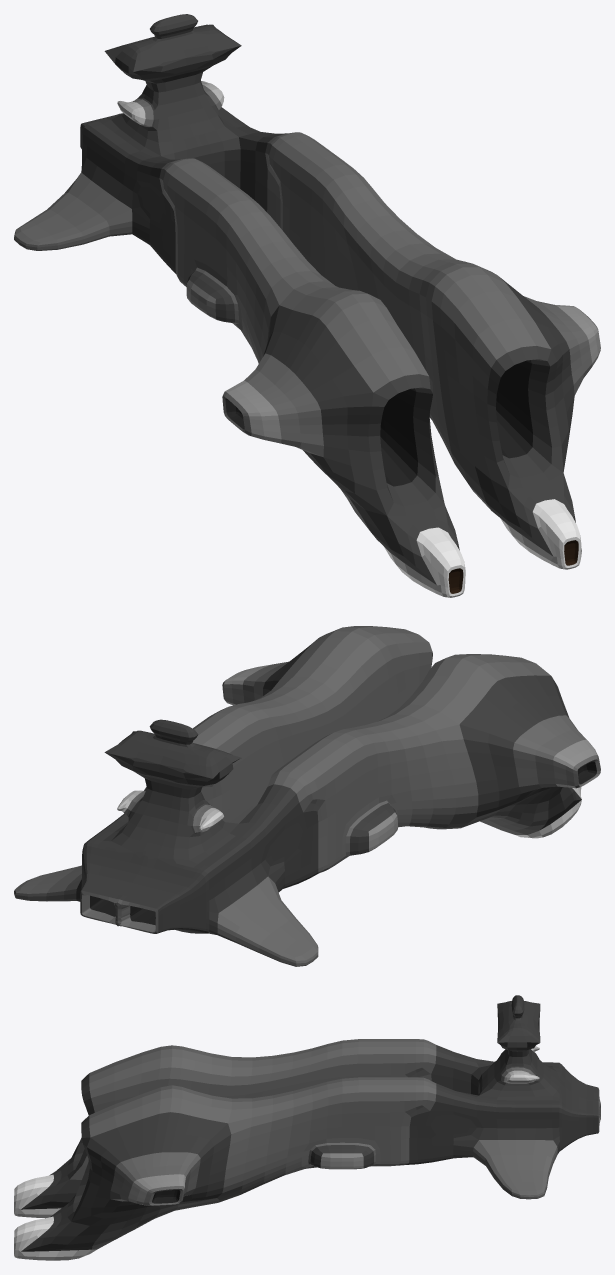
The model's file is mainShip.gltf.
3 renders of one model, top to bottom at view 1: azimuth 30°, elevation 25°; view 2: azimuth 150°, elevation 25°; view 3: azimuth 270°, elevation 25°, orthographic. The views are drawn at different scales.
Visible parts, largest first — view 1: Cube; view 2: Cube; view 3: Cube.
Boxes of the visible parts, x1,y1,x2,y2 form: Cube: (14, 14, 600, 597); Cube: (14, 626, 600, 966); Cube: (14, 995, 600, 1260).
Size of the model in its own units: 0.3439 by 0.2956 by 0.6646.
Materials: 2 (2 with a texture image).
